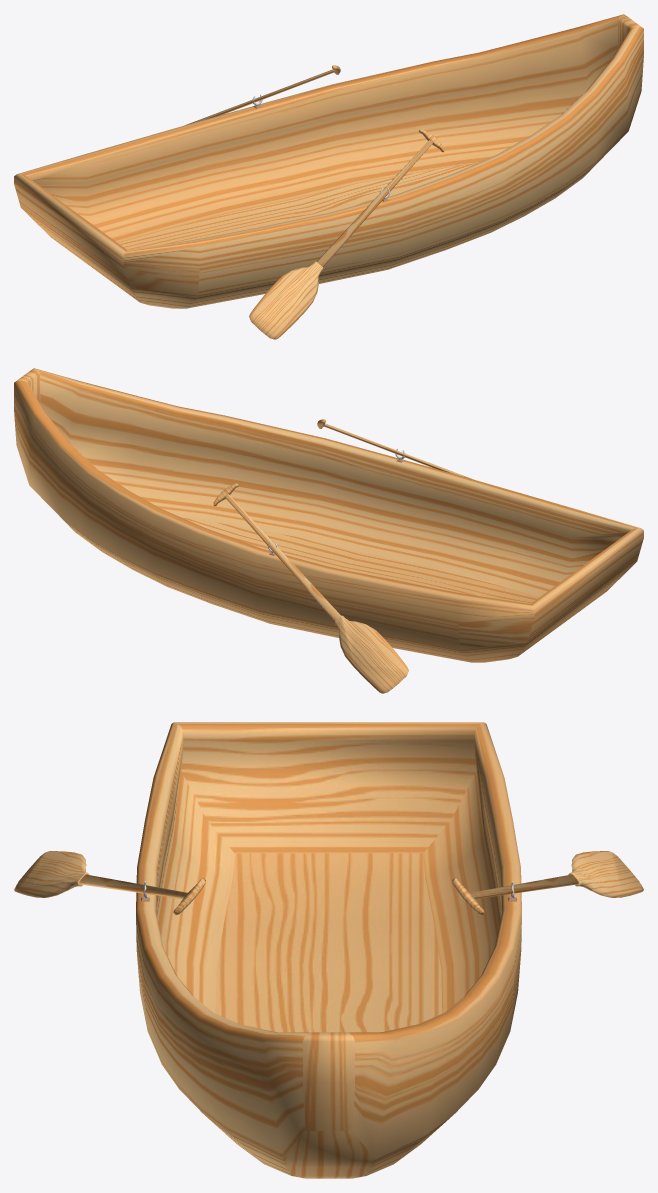
The model's file is лодка.fbx.
3 views of the same model, one above another, from view 1: azimuth 30°, elevation 25°; view 2: azimuth 150°, elevation 25°; view 3: azimuth 270°, elevation 25° (orthographic). The views are drawn at different scales.
Visible parts, largest first — view 1: лодка, весло; view 2: лодка, весло; view 3: лодка, весло.
Part boxes in pixels (x1,y1,x2,y2): лодка: (14,14,643,308); весло: (186,65,444,339); лодка: (14,368,643,662); весло: (213,419,471,693); лодка: (136,722,521,1178); весло: (14,851,643,915).
Size of the model in its own units: 380 by 94.04 by 254.
Materials: 4 (2 with a texture image).
